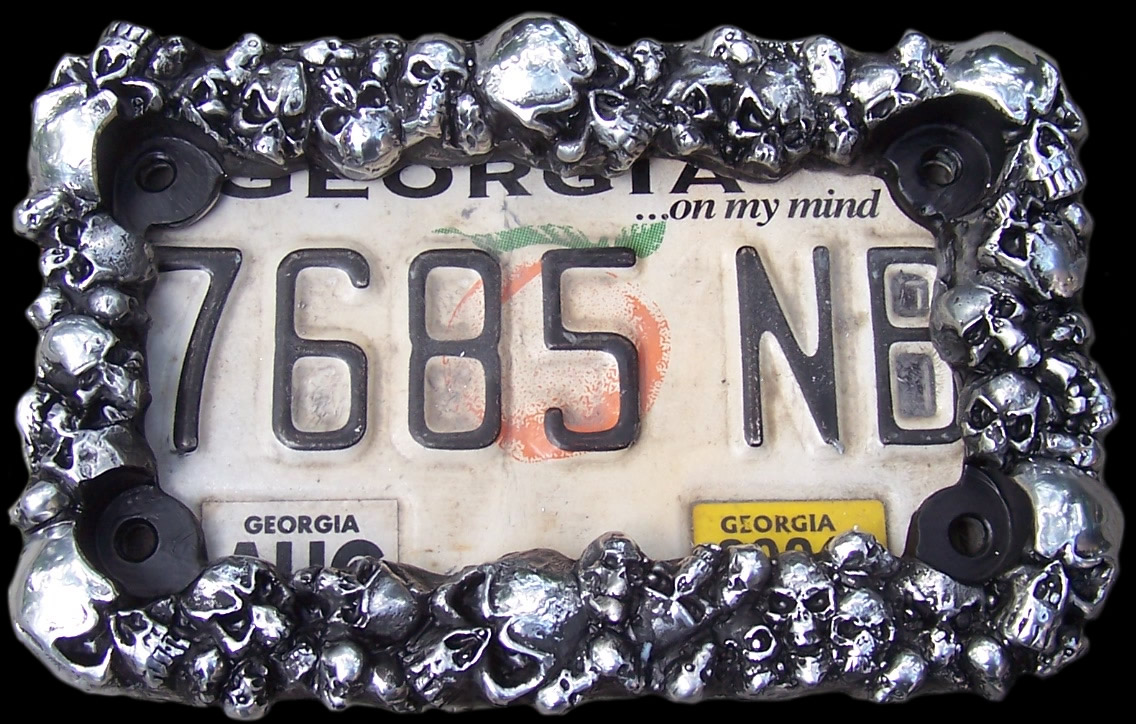license plate: (122, 151, 953, 546)
